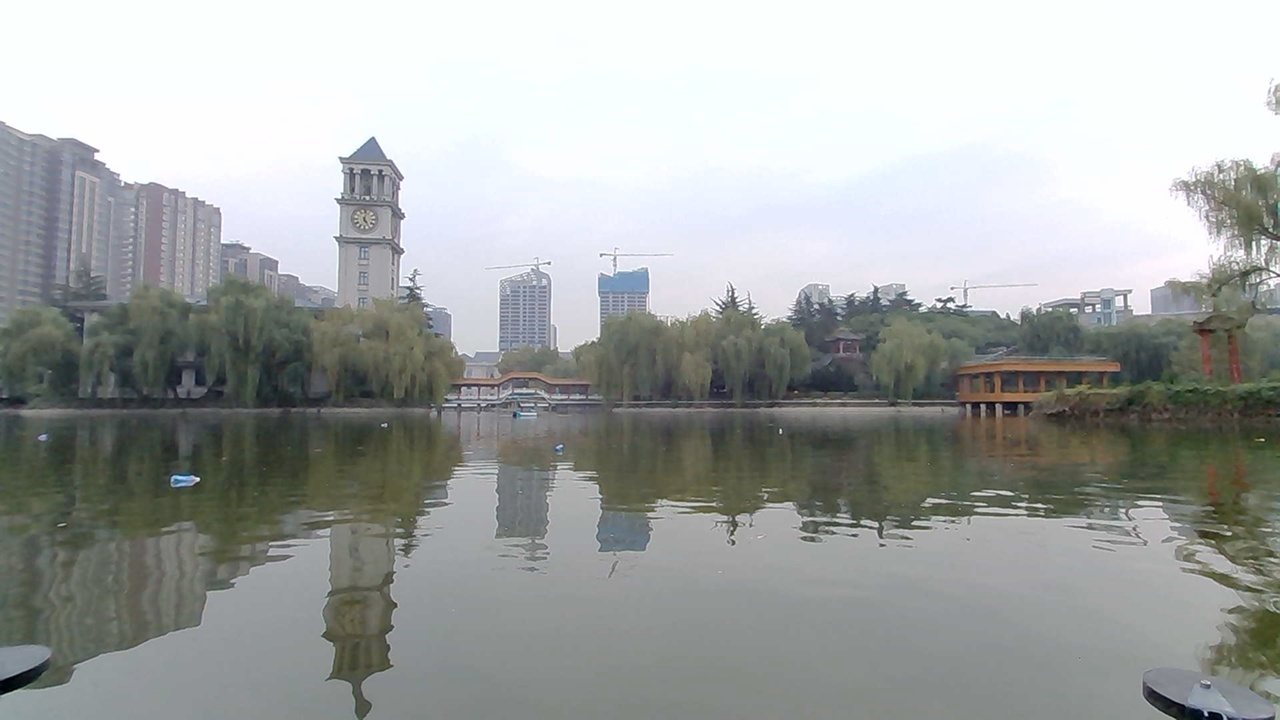bottle: (537, 431, 571, 458), (26, 426, 64, 450), (766, 420, 796, 446), (166, 470, 203, 491), (377, 412, 406, 434)
